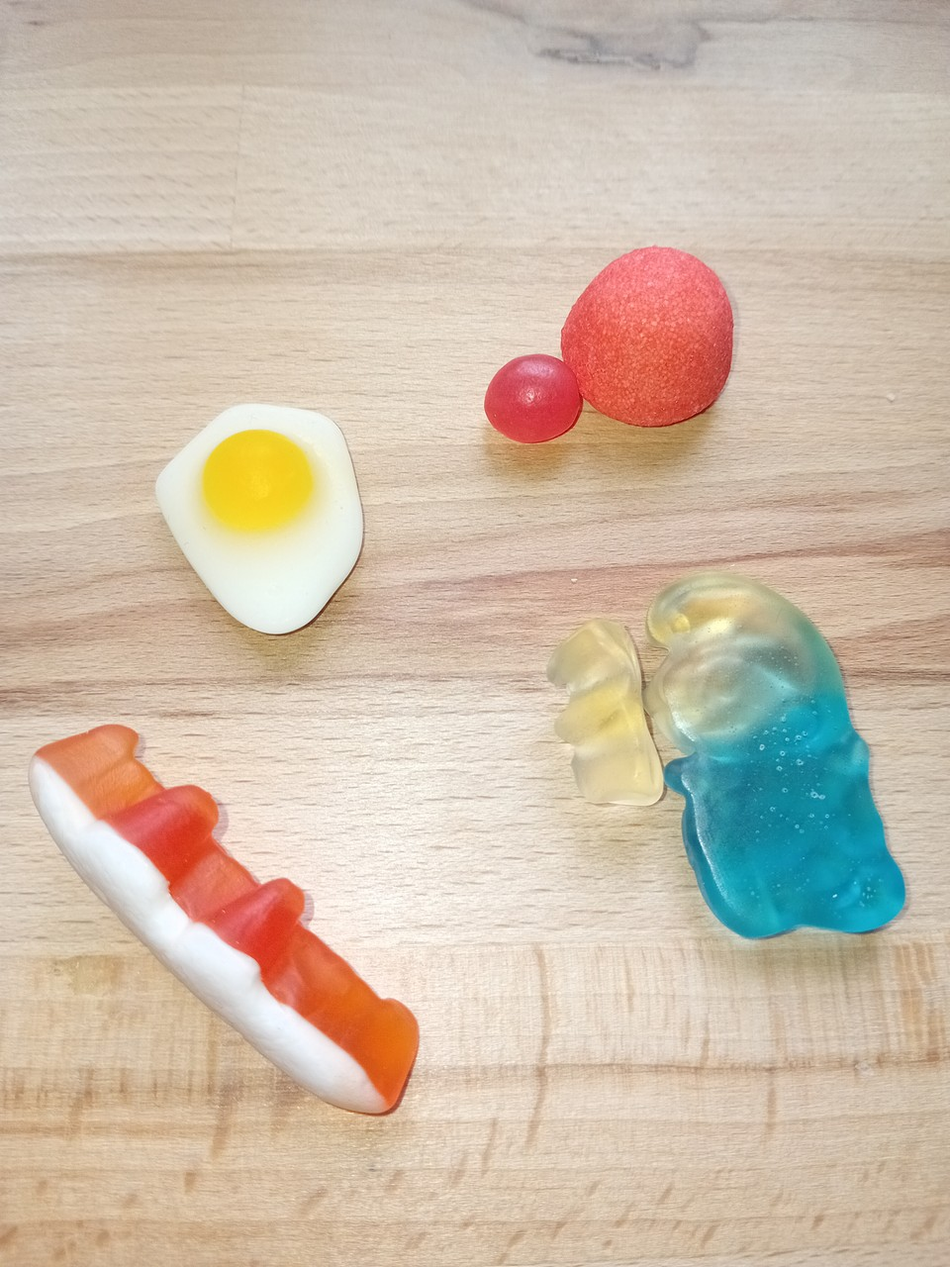crocodile_orange: (20, 720, 428, 1125)
dragibus_rouge: (480, 344, 583, 448)
oeuf_oeuf: (149, 392, 369, 644)
ourson_blanc: (536, 614, 668, 812)
schtroumpf_bleu-blanc: (641, 569, 914, 947)
tagada_fraise: (556, 236, 743, 434)
